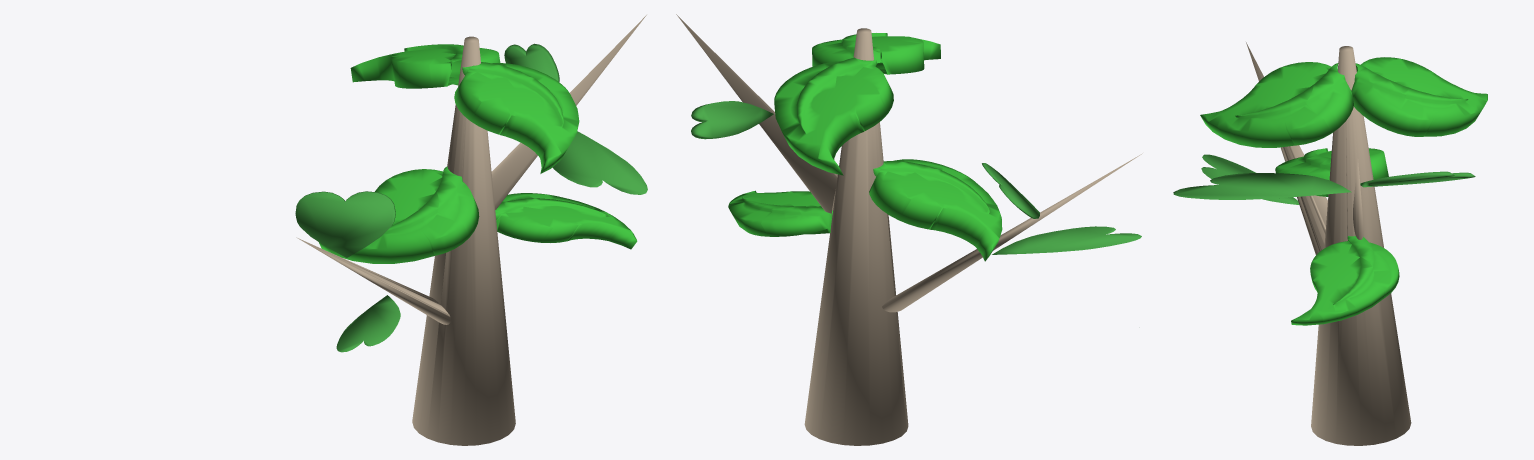
Rendered from level5.glb.
The picture shows the model from 3 angles, left to right: view 1: azimuth 30°, elevation 25°; view 2: azimuth 150°, elevation 25°; view 3: azimuth 270°, elevation 25°; orthographic projection. The views are drawn at different scales.
Parts seen in each view (by area): view 1: obj_0.001, obj_0.002, obj_0.003, obj_0.004, obj_0.005; view 2: obj_0.001, obj_0.003, obj_0.002, obj_0.005, obj_0.004; view 3: obj_0.001, obj_0.004, obj_0.005, obj_0.003, obj_0.002.
Boxes of the visible parts, x1,y1,x2,y2 form: obj_0.001: (412, 36, 515, 445); obj_0.002: (295, 15, 647, 352); obj_0.003: (319, 166, 637, 263); obj_0.004: (454, 62, 579, 173); obj_0.005: (350, 44, 500, 88); obj_0.001: (804, 28, 908, 445); obj_0.003: (728, 159, 1002, 261); obj_0.002: (676, 14, 1142, 312); obj_0.005: (774, 57, 893, 175); obj_0.004: (812, 33, 940, 74); obj_0.001: (1311, 46, 1411, 445); obj_0.004: (1200, 62, 1353, 147); obj_0.005: (1351, 57, 1487, 136); obj_0.003: (1275, 148, 1399, 325); obj_0.002: (1173, 42, 1475, 254).
Size of the model in its own units: 91.98 by 62.26 by 51.73.
